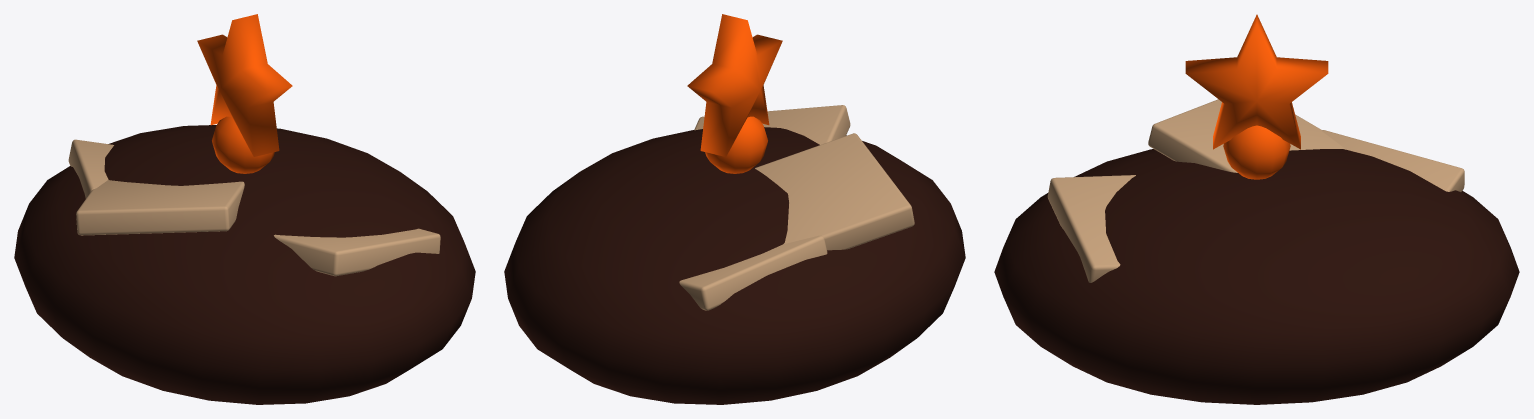
File: SM_JunkPile_Lava.fbx
3 views of the same model, side by side, from view 1: azimuth 30°, elevation 25°; view 2: azimuth 150°, elevation 25°; view 3: azimuth 270°, elevation 25° (orthographic).
Visible parts, largest first — view 1: SM_JunkPile_Lava; view 2: SM_JunkPile_Lava; view 3: SM_JunkPile_Lava.
Boxes of the visible parts, x1=… form: SM_JunkPile_Lava: x1=14, y1=14, x2=475, y2=404; SM_JunkPile_Lava: x1=504, y1=14, x2=965, y2=404; SM_JunkPile_Lava: x1=994, y1=14, x2=1519, y2=404.
Size of what is drawn, in the model's own units: 1.2 by 1.02 by 1.4.
Materials: 1 (1 with a texture image).
